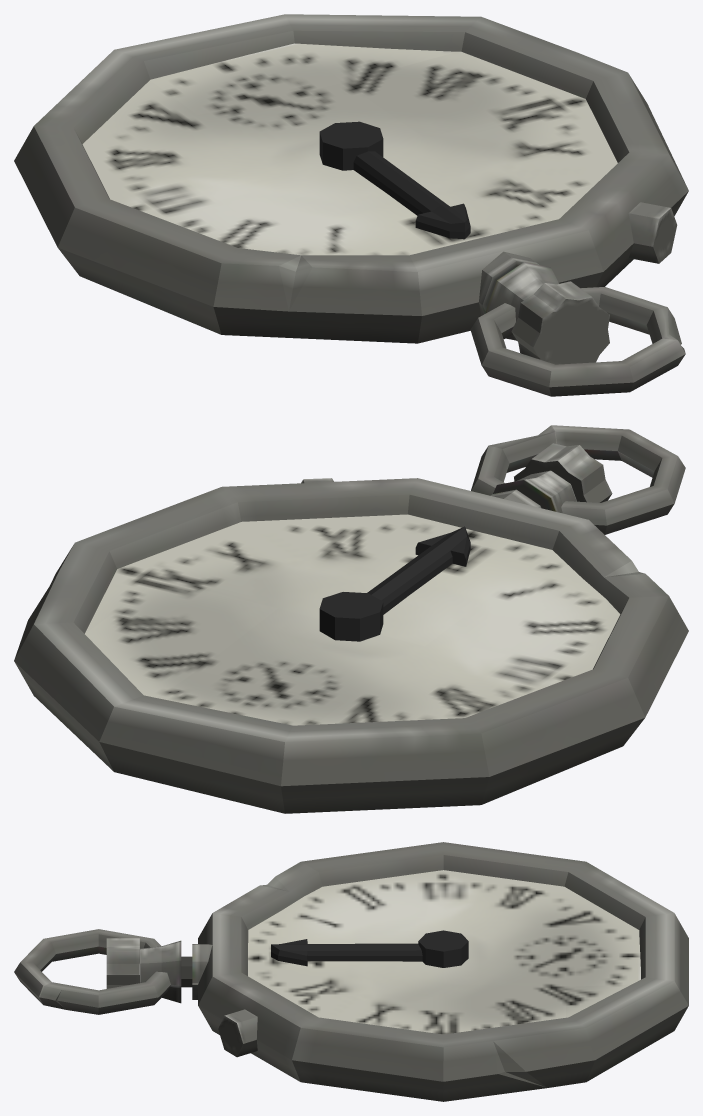
Rendered from TimeClock.fbx.
3 views of the same model, one above another, from view 1: azimuth 30°, elevation 25°; view 2: azimuth 150°, elevation 25°; view 3: azimuth 270°, elevation 25° (orthographic). The views are drawn at different scales.
Parts seen in each view (by area): view 1: pocketwatch, Cube; view 2: pocketwatch, Cube; view 3: pocketwatch, Cube.
Part boxes in pixels (<box>): pocketwatch: <box>14,14,688,396</box>; Cube: <box>319,121,470,239</box>; pocketwatch: <box>14,425,688,813</box>; Cube: <box>319,526,470,641</box>; pocketwatch: <box>14,842,688,1101</box>; Cube: <box>271,930,468,967</box>.
Size of the model in its own units: 3.62 by 0.4779 by 4.72.
